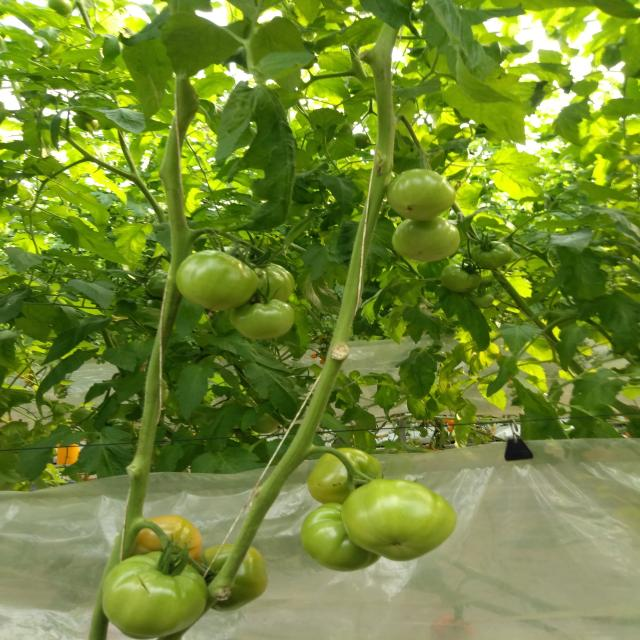yesil: (306, 443, 441, 571), (166, 258, 314, 354), (363, 160, 476, 282)
